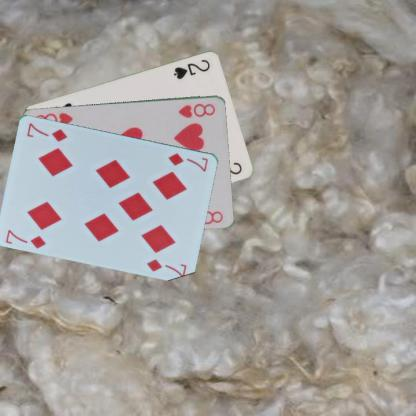2s: (171, 56, 211, 80)
7d: (3, 226, 48, 249), (166, 150, 210, 173)
8h: (176, 101, 216, 119)
